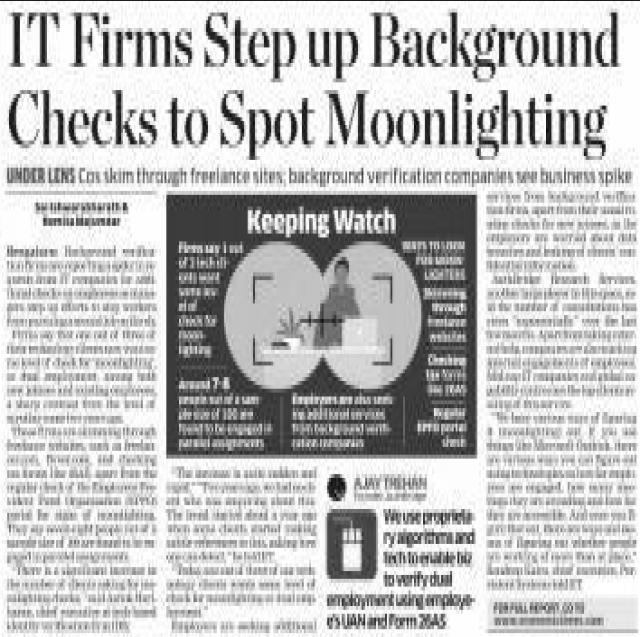paper: (0, 1, 640, 637)
